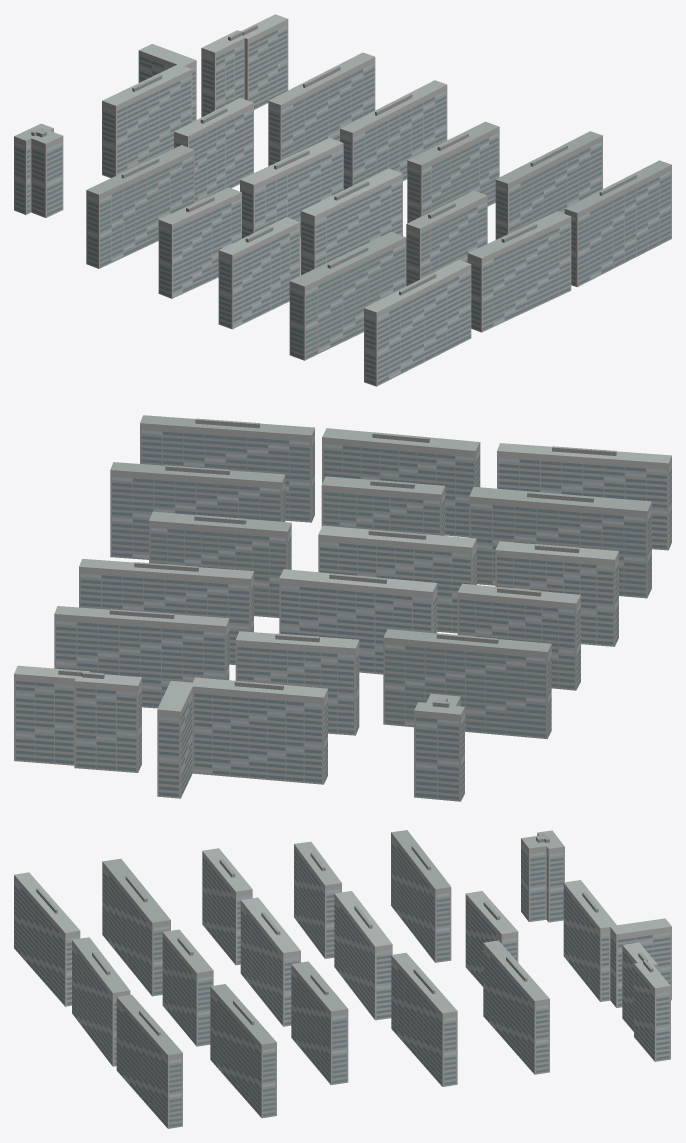
The model's file is apt-a13986302.glb.
3 views of the same model, one above another, from view 1: azimuth 30°, elevation 25°; view 2: azimuth 150°, elevation 25°; view 3: azimuth 270°, elevation 25° (orthographic). The views are drawn at different scales.
Visible parts, largest first — view 1: apt-a13986302; view 2: apt-a13986302; view 3: apt-a13986302.
Boxes of the visible parts, <box> form: apt-a13986302: <box>14,14,671,386</box>; apt-a13986302: <box>14,415,671,801</box>; apt-a13986302: <box>14,830,671,1128</box>.
Size of the model in its own units: 300 by 47.81 by 370.
